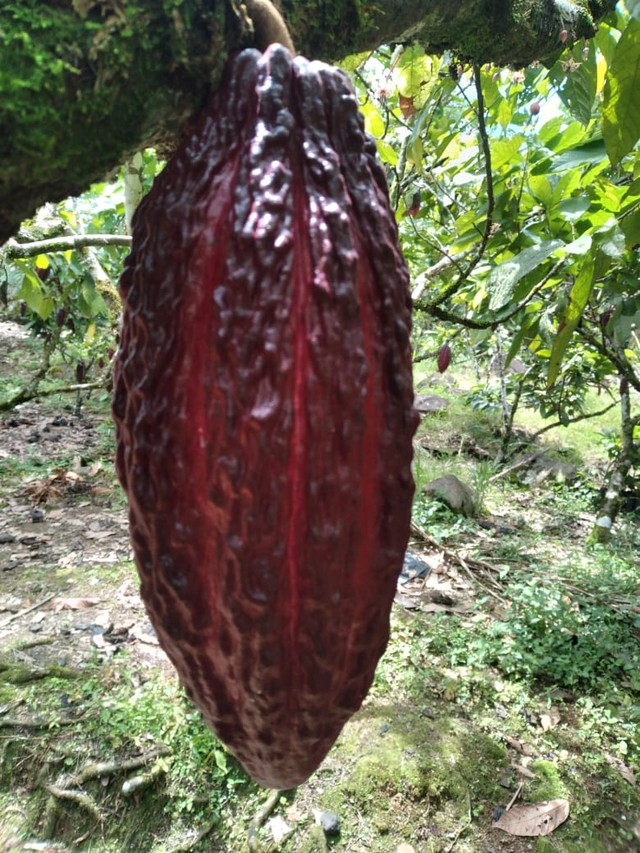Health: (80, 20, 447, 809)
